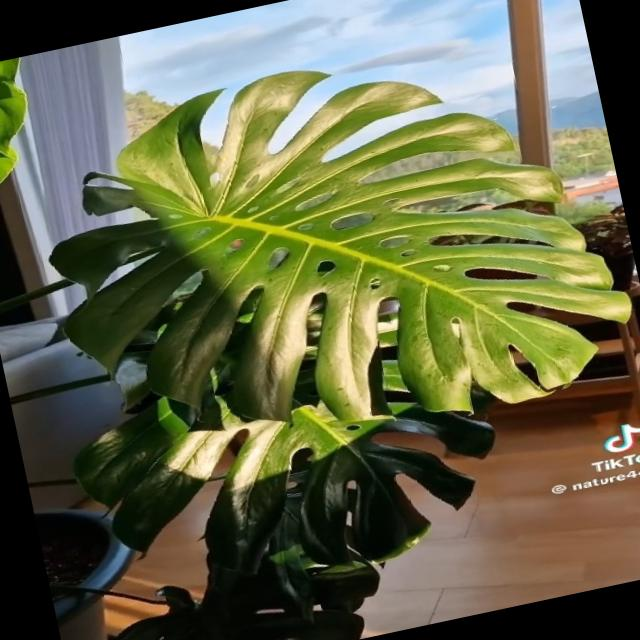roslina_zdrowa: (0, 71, 633, 640)
